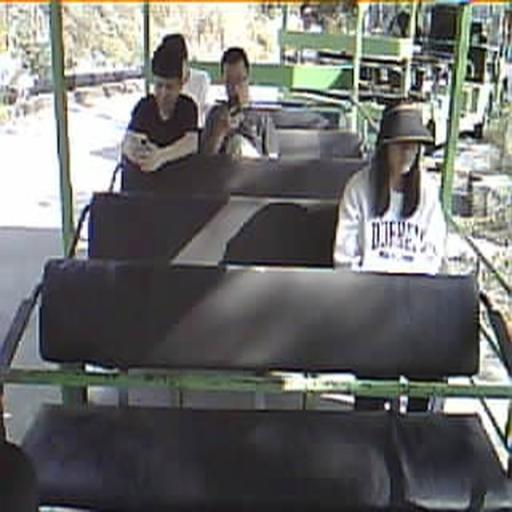persona: (332, 102, 449, 276), (120, 33, 201, 188), (201, 46, 279, 160), (163, 33, 210, 128)
